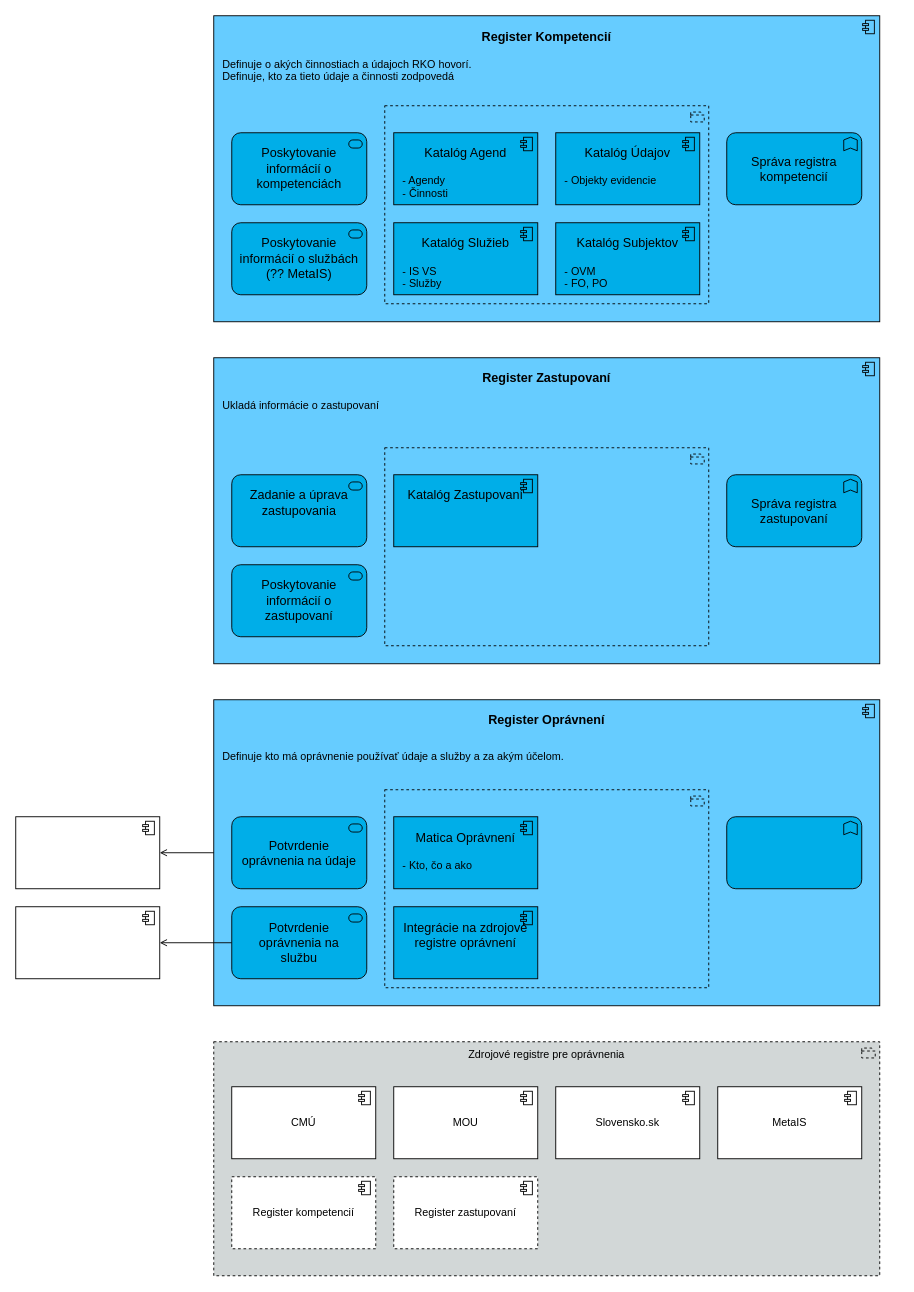
The diagram is 914 pixels wide and 1292 high, and some of its shapes have lost their labels. The shapes that lost their labels are listed below. From the top down, each one's centre as x and y in pixels, then its label:
At (x=87, y=852): "CSRÚ".
At (x=794, y=852): "Správa registra oprávnení".
At (x=87, y=942): "CAMP".
